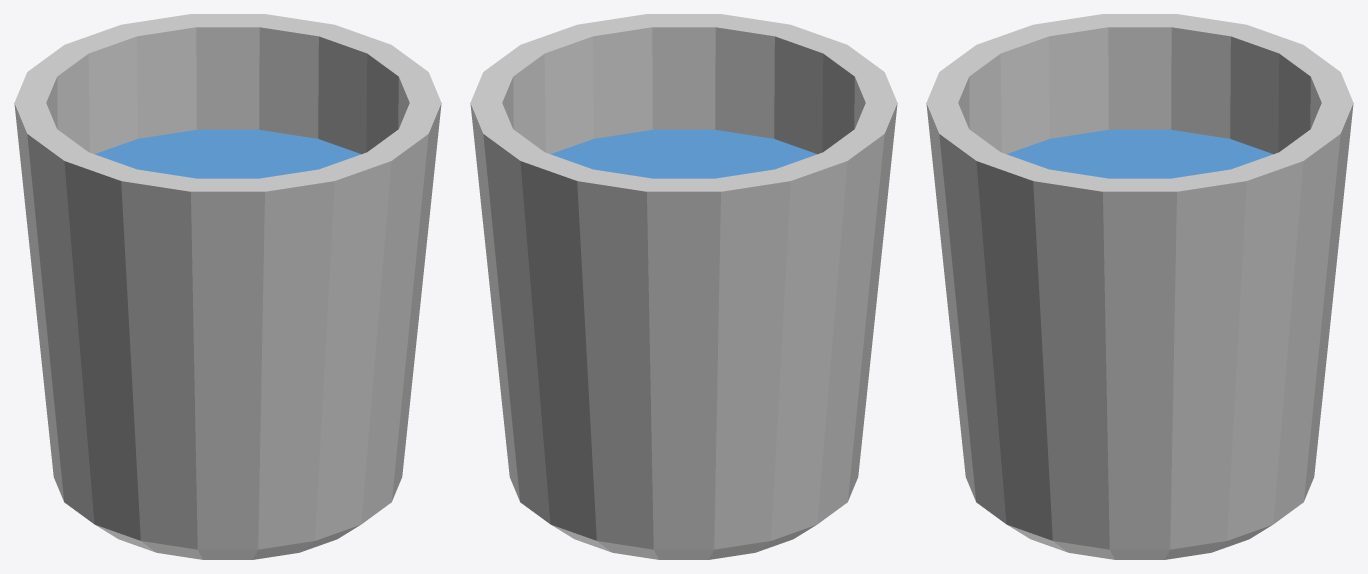
Rendered from GameJam_Seed.fbx.
3 views of the same model, side by side, from view 1: azimuth 30°, elevation 25°; view 2: azimuth 150°, elevation 25°; view 3: azimuth 270°, elevation 25° (orthographic).
Visible parts, largest first — view 1: Bucket, Water_Liquid; view 2: Bucket, Water_Liquid; view 3: Bucket, Water_Liquid.
Boxes of the visible parts, box(x1,y1,x2,y2) form: Bucket: box(14, 14, 441, 559); Water_Liquid: box(95, 129, 360, 178); Bucket: box(470, 14, 897, 559); Water_Liquid: box(551, 129, 816, 178); Bucket: box(926, 14, 1353, 559); Water_Liquid: box(1007, 129, 1272, 178).
Bounding box in the file's own units: 295 × 307 × 299.
